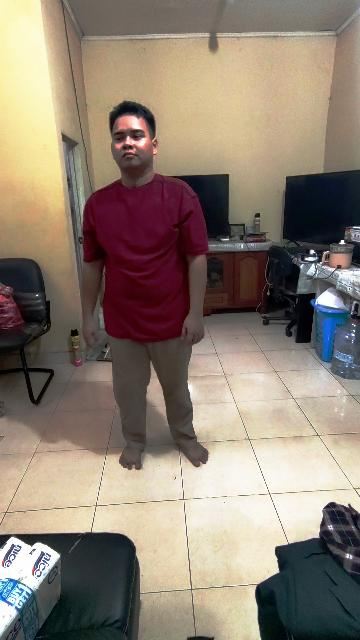berdiri: (72, 98, 212, 472)
